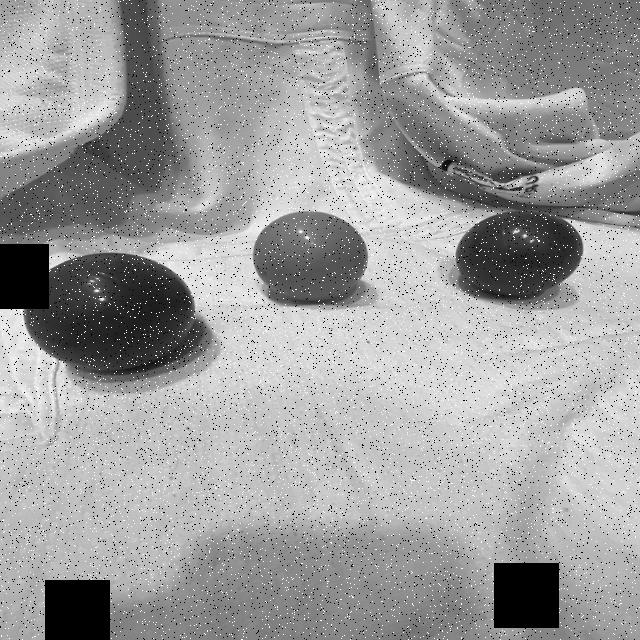ball: (18, 249, 200, 372), (450, 208, 586, 301), (247, 208, 370, 302)
